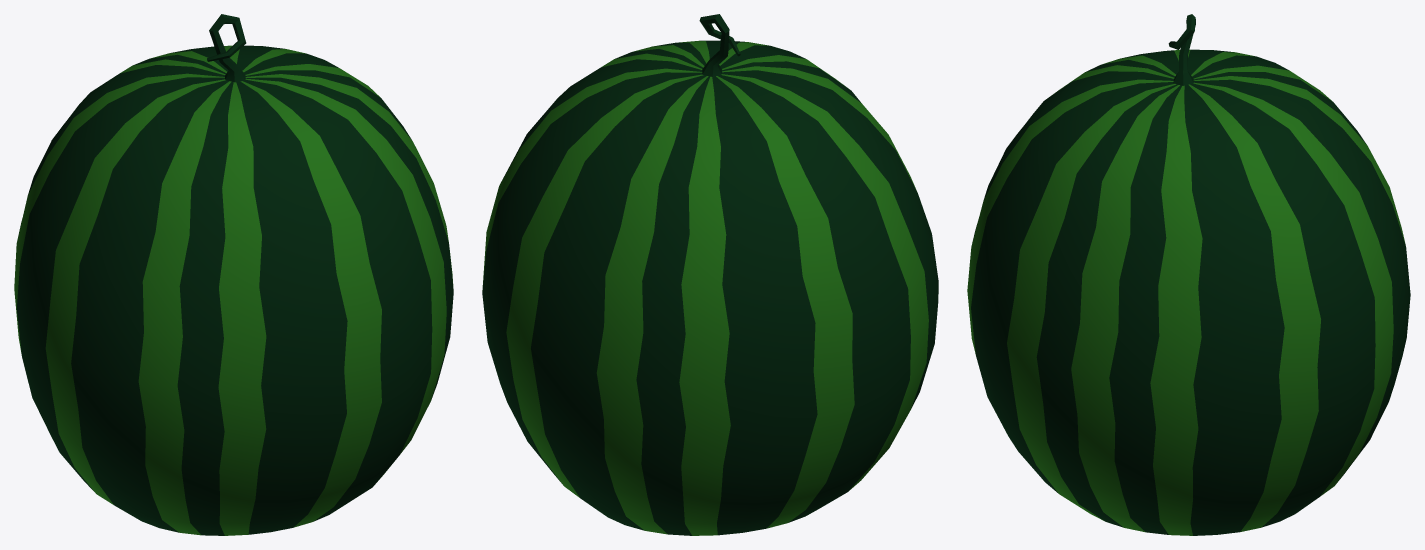
Rendered from Watermelon.FBX.
The picture shows the model from 3 angles, left to right: view 1: azimuth 30°, elevation 25°; view 2: azimuth 150°, elevation 25°; view 3: azimuth 270°, elevation 25°; orthographic projection.
Visible parts, largest first — view 1: Sphere001; view 2: Sphere001; view 3: Sphere001.
Part boxes in pixels (left/top/right/bottom): Sphere001: left=14, top=14, right=453, bottom=535; Sphere001: left=482, top=14, right=938, bottom=535; Sphere001: left=967, top=14, right=1410, bottom=535.
Bounding box in the file's own units: 23.9 × 29.08 × 23.9.
